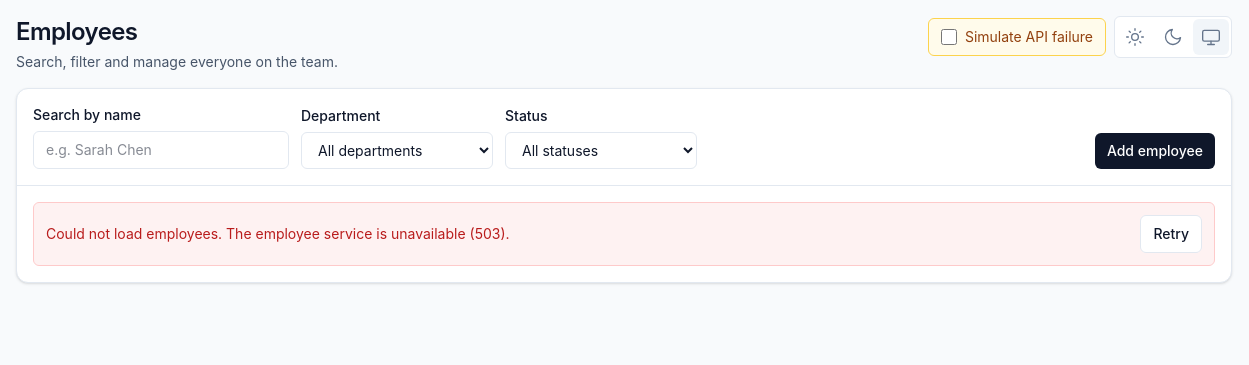
failed employee fetch › explains the failure and recovers through Retry
The width and height of the screenshot is (1249, 365).
Expected: the message shows "Could not load employees.", [46,225,510,242]
Expected: the message shows "The employee service is unavailable (503).", [46,225,510,242]
// Recovery is in the user's hands, and the same button works repeatedly.
Click the button "Retry" at x=1171, y=234, box [1140,215,1202,253]
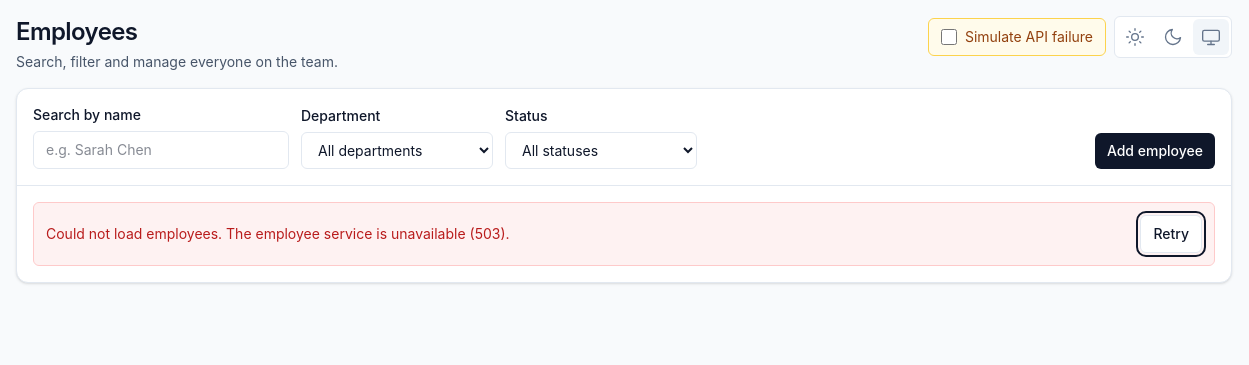
Expected: the message "Could not load employees. The employee service is unavailable (503). Retry" is shown, [33,202,1215,266]
Click the button "Retry" at x=1171, y=234, box [1140,215,1202,253]
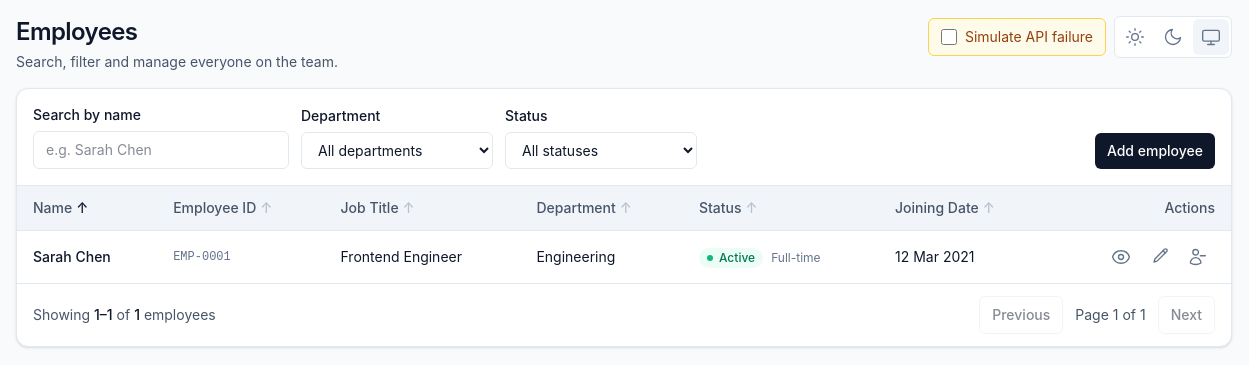
Expected: the table is shown, [17,186,1231,283]
Expected: the column heading "Sarah Chen" is shown, [17,231,157,283]
Expected: the message "Could not load employees. The employee service is unavailable (503). Retry" is gone
